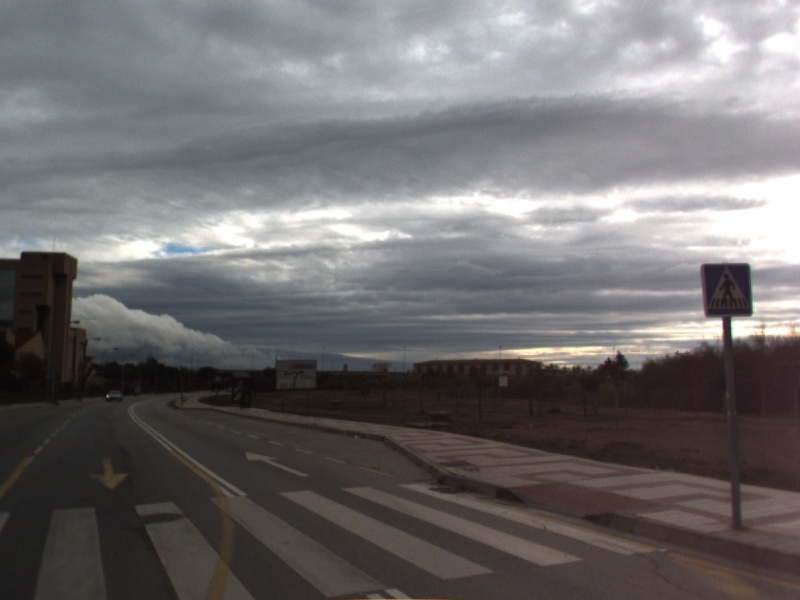STRAIGHT: (243, 449, 311, 479)
